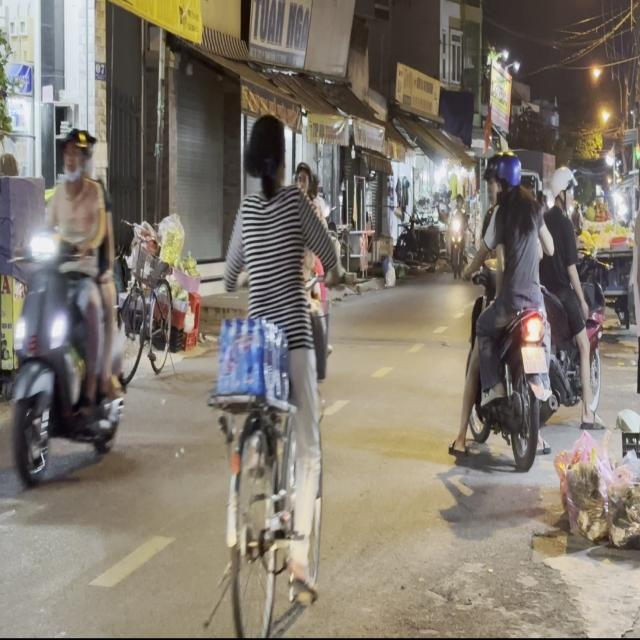helmet: (494, 152, 522, 201), (550, 164, 575, 208)
licenseplate: (5, 120, 132, 492), (455, 145, 553, 470), (537, 160, 601, 428)
motorcyclist: (242, 112, 288, 193), (59, 124, 92, 179)
nohelmet: (522, 345, 546, 371)
